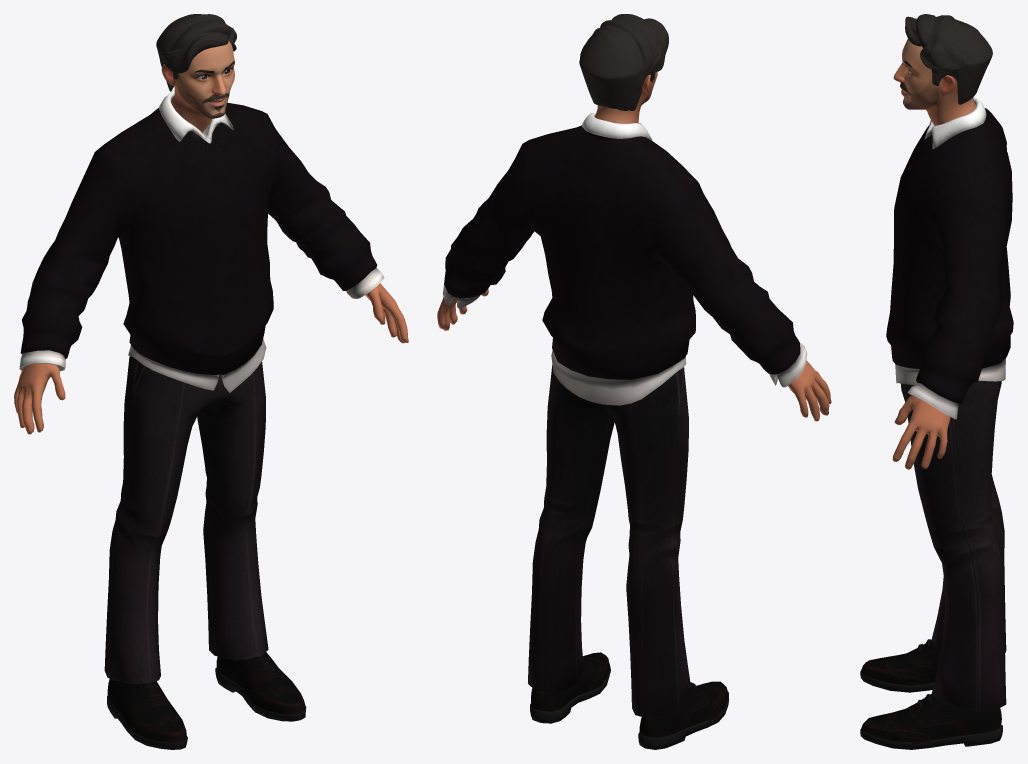
File: vamsi.gltf
The picture shows the model from 3 angles, left to right: view 1: azimuth 30°, elevation 25°; view 2: azimuth 150°, elevation 25°; view 3: azimuth 270°, elevation 25°; orthographic projection.
Visible parts, largest first — view 1: Wolf3D_Outfit_Top, Wolf3D_Outfit_Bottom, Wolf3D_Outfit_Footwear, Wolf3D_Head, Wolf3D_Body, Wolf3D_Hair; view 2: Wolf3D_Outfit_Top, Wolf3D_Outfit_Bottom, Wolf3D_Hair, Wolf3D_Outfit_Footwear, Wolf3D_Body, Wolf3D_Head; view 3: Wolf3D_Outfit_Top, Wolf3D_Outfit_Bottom, Wolf3D_Outfit_Footwear, Wolf3D_Hair, Wolf3D_Head, Wolf3D_Body.
Part boxes in pixels (box(x1,y1,x2,y2)): Wolf3D_Outfit_Top: box(19, 90, 384, 392); Wolf3D_Outfit_Bottom: box(104, 356, 268, 684); Wolf3D_Outfit_Footwear: box(107, 651, 306, 749); Wolf3D_Head: box(161, 40, 234, 133); Wolf3D_Body: box(14, 283, 408, 434); Wolf3D_Hair: box(156, 14, 236, 91); Wolf3D_Outfit_Top: box(442, 113, 807, 405); Wolf3D_Outfit_Bottom: box(528, 365, 691, 719); Wolf3D_Hair: box(579, 14, 668, 110); Wolf3D_Outfit_Footwear: box(530, 652, 729, 749); Wolf3D_Body: box(437, 289, 831, 421); Wolf3D_Head: box(594, 72, 657, 123); Wolf3D_Outfit_Top: box(886, 97, 1013, 419); Wolf3D_Outfit_Bottom: box(901, 380, 1006, 711); Wolf3D_Outfit_Footwear: box(860, 639, 1002, 749); Wolf3D_Hair: box(905, 14, 992, 104); Wolf3D_Head: box(893, 39, 976, 125); Wolf3D_Body: box(892, 395, 950, 469).
Size of the model in its own units: 1.06 by 1.85 by 0.3697.
9 materials, 9 textured.
